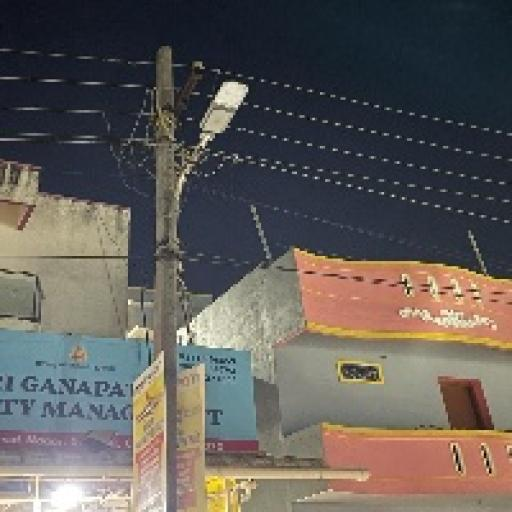Not Working: (188, 69, 257, 150)
